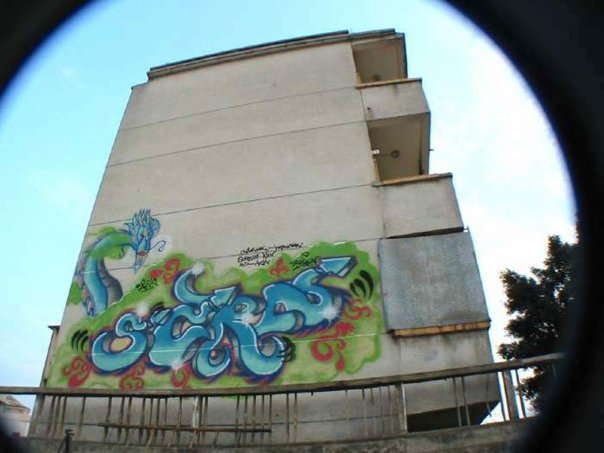graffity: (44, 203, 387, 388), (234, 238, 325, 277)
